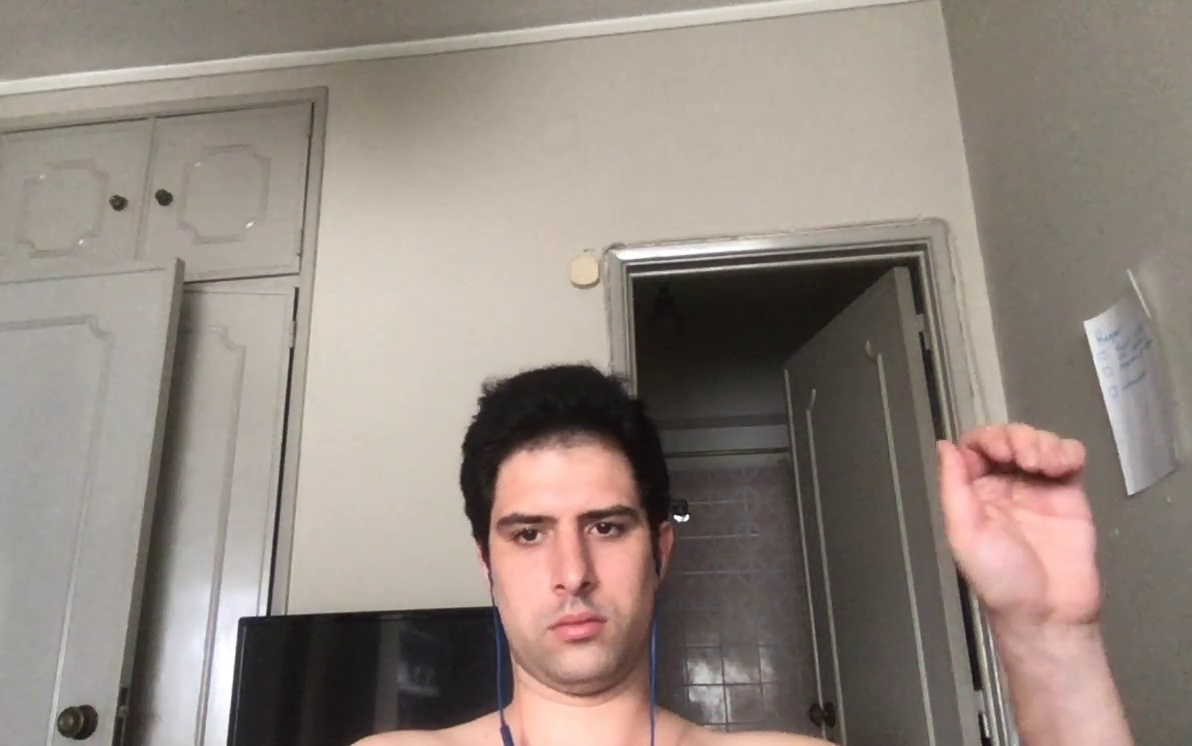c: (931, 420, 1111, 630)
